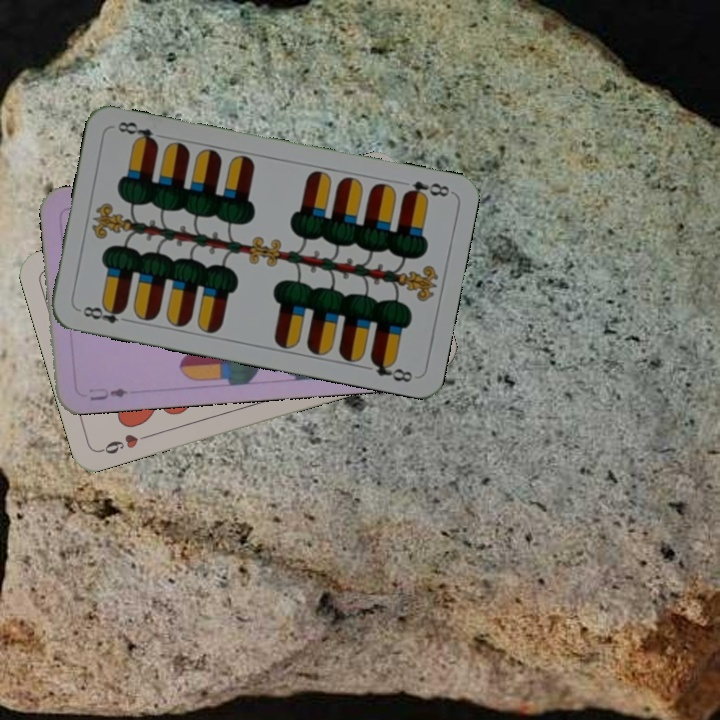E8: (74, 300, 133, 326), (400, 177, 452, 202)
EU: (85, 384, 130, 403)
H9: (96, 429, 154, 457)
